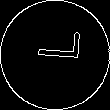L_W: (29, 38, 81, 72)
